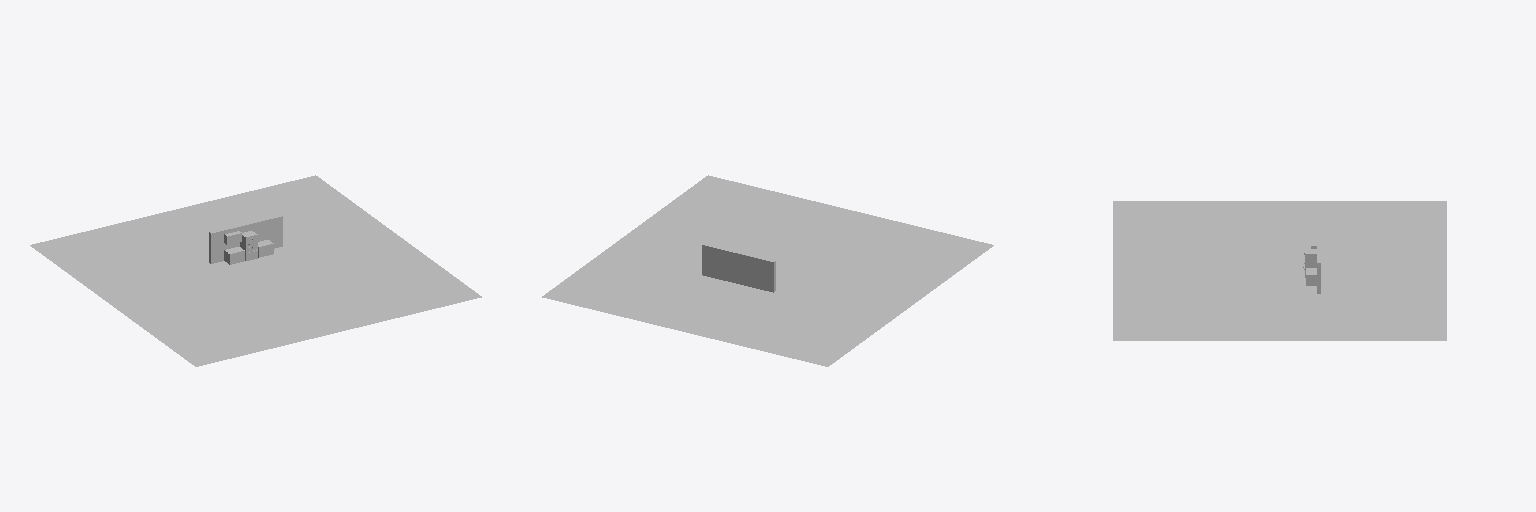
The model's file is LG French Doors.obj.
The picture shows the model from 3 angles: view 1: azimuth 30°, elevation 25°; view 2: azimuth 150°, elevation 25°; view 3: azimuth 270°, elevation 25°; orthographic projection.
Visible parts, largest first — view 1: Plane001, Box006; view 2: Plane001, Box006; view 3: Plane001.
Part boxes in pixels (bbox=[...]): Plane001: bbox=[30, 175, 481, 366]; Box006: bbox=[209, 215, 282, 263]; Plane001: bbox=[542, 175, 993, 366]; Box006: bbox=[702, 243, 775, 292]; Plane001: bbox=[1113, 201, 1446, 340].
Bounding box in the file's own units: 2206 × 224 × 2219.